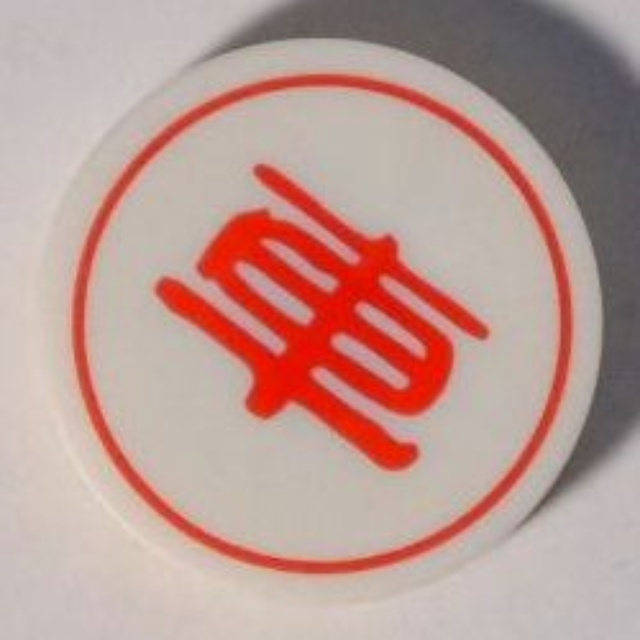red_xe: (29, 28, 611, 597)
